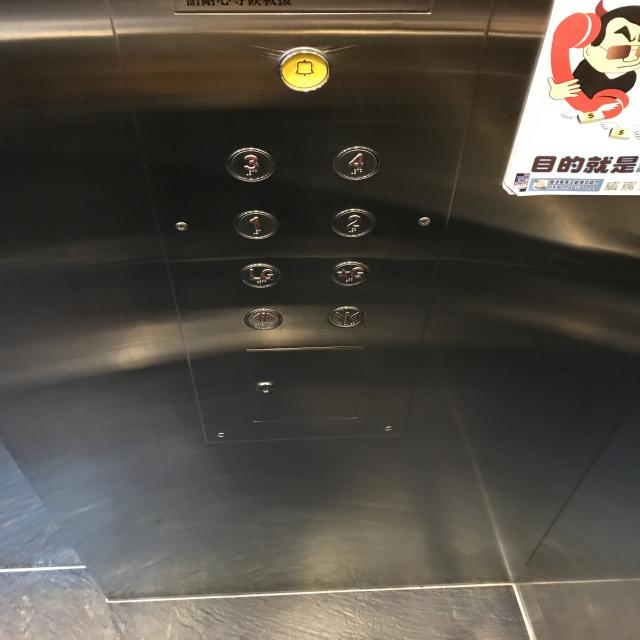1: (232, 210, 278, 240)
2: (329, 208, 376, 238)
3: (225, 147, 275, 183)
4: (331, 145, 381, 181)
LG: (238, 262, 281, 288)
alarm: (276, 46, 331, 94)
close: (327, 305, 365, 328)
open: (243, 307, 283, 331)
sG: (329, 260, 369, 286)
